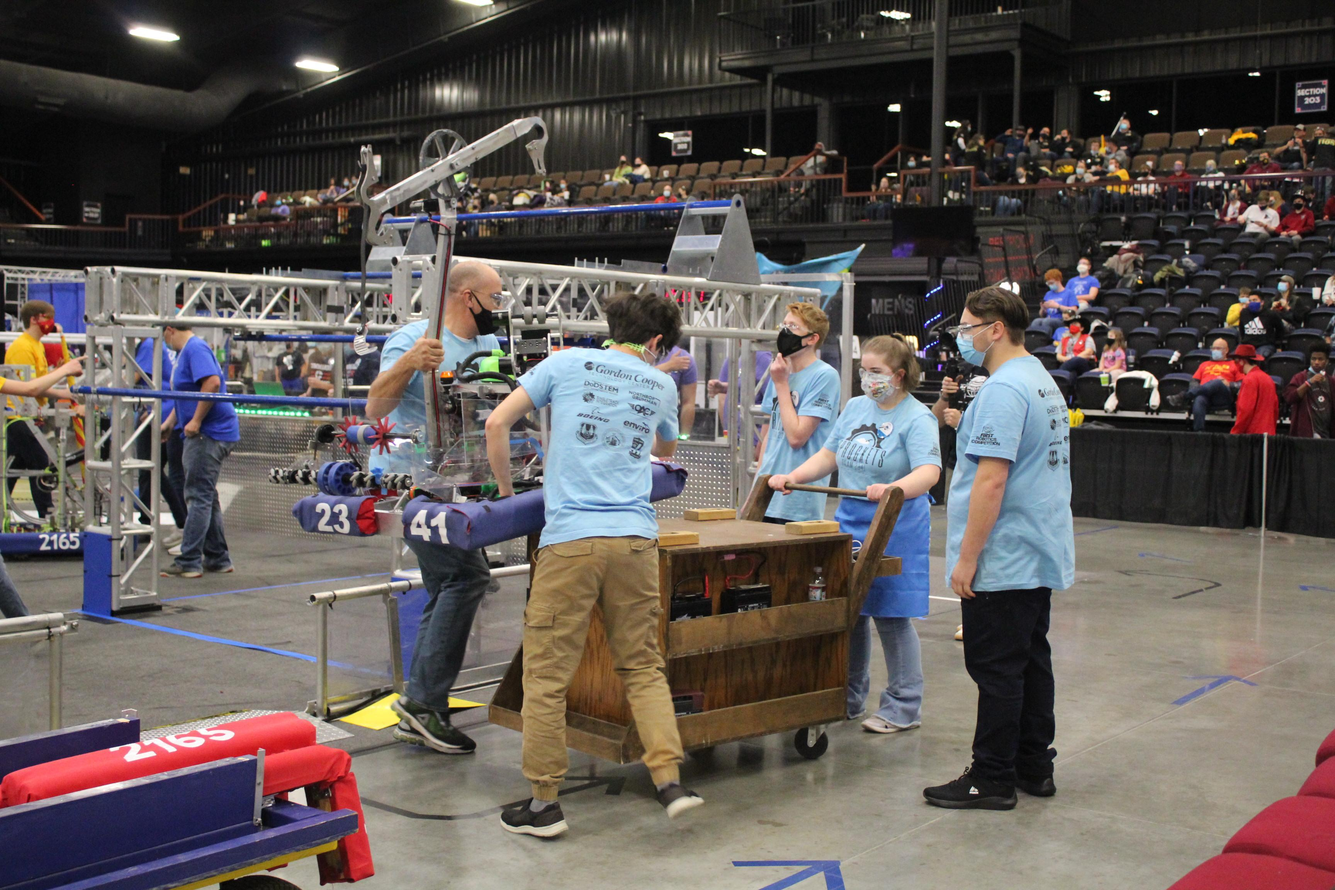robot: (265, 112, 760, 567), (0, 323, 126, 568)
